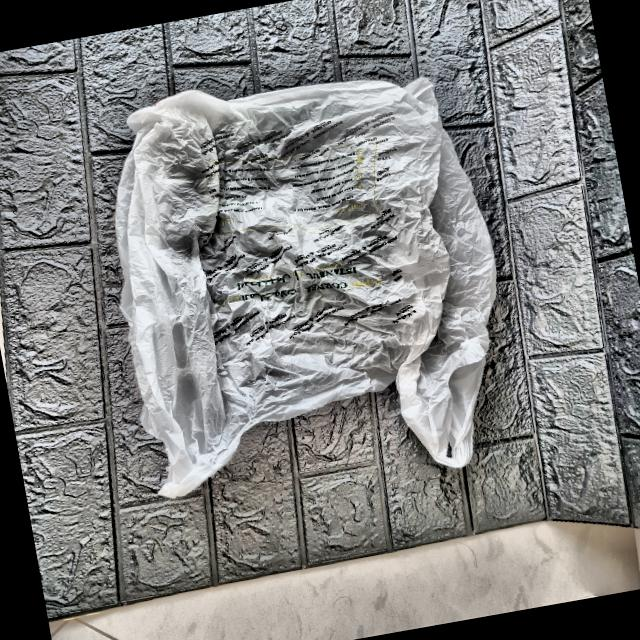plastic bag: (90, 42, 528, 520)
